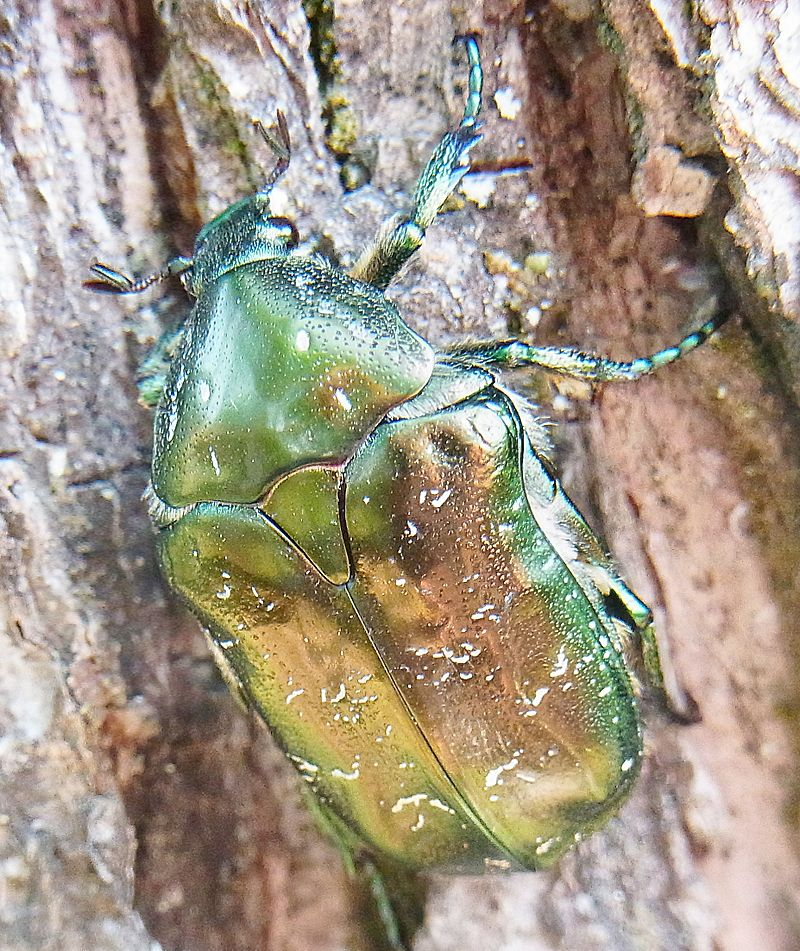Protaetia_lugubris: (83, 22, 739, 882)
